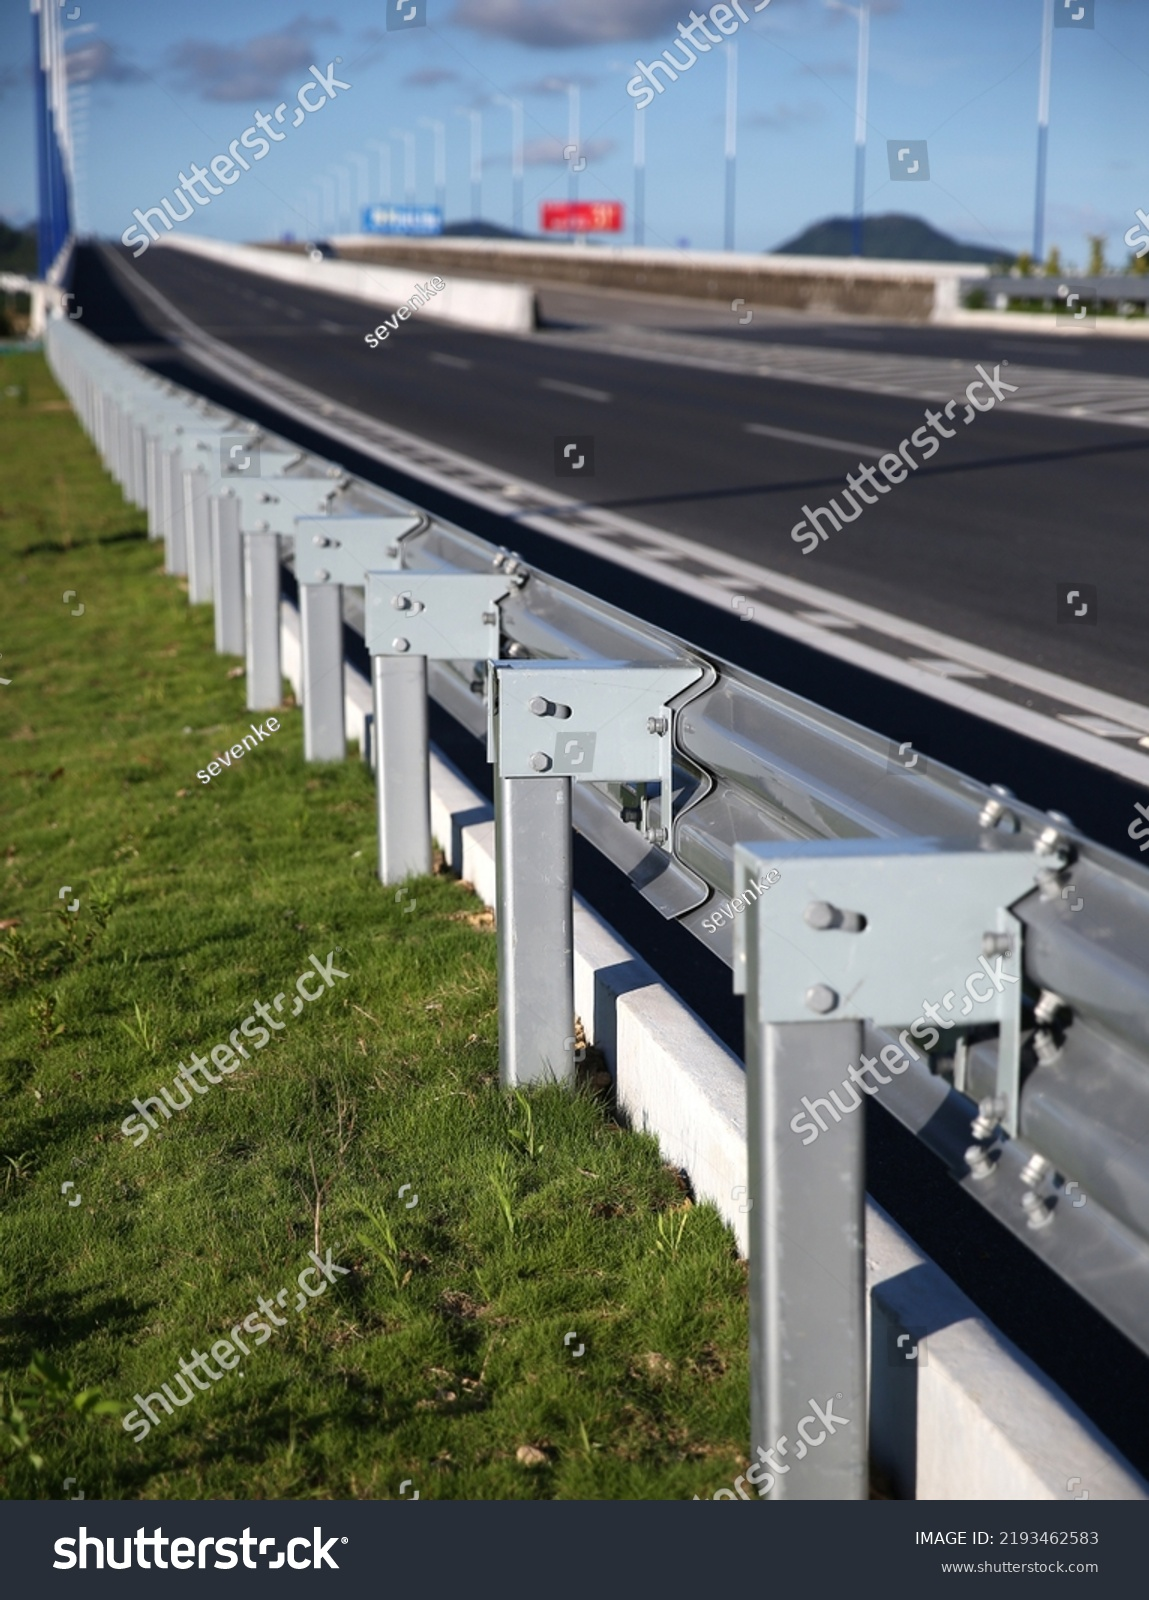not_damaged: (246, 394, 1093, 1512)
